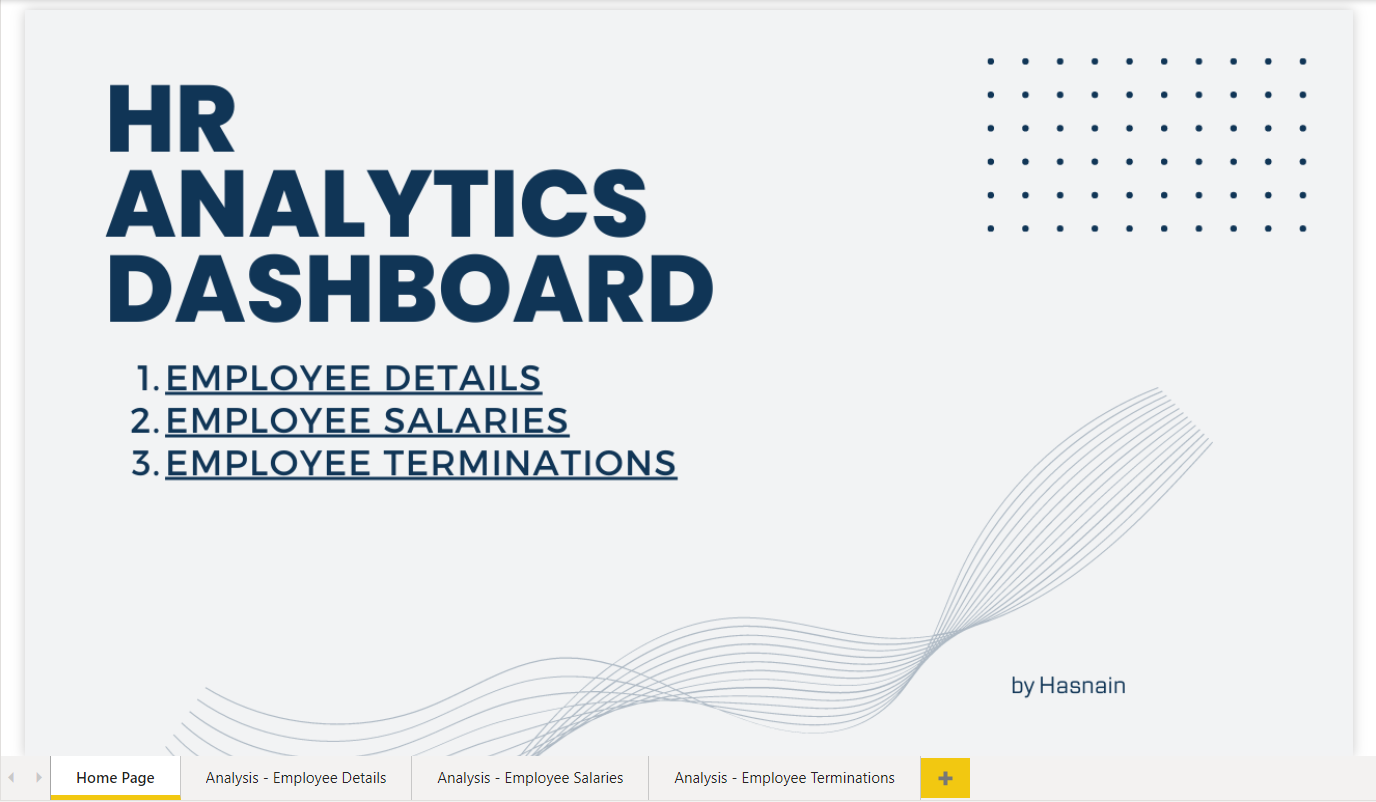

What the dashboard file says about the page in this screenshot:
{"tool":"powerbi","page":{"name":"Home Page","canvas":[1280,720],"ordinal":0},"visuals":[{"type":"actionButton","box":[104.7,332,407,40.5],"z":0},{"type":"actionButton","box":[104.7,372.5,438,40.5],"z":1},{"type":"actionButton","box":[104.7,422.5,535.5,40.5],"z":2}]}

Visuals, with their boxes on the page's 1280x720 design canvas (x1, y1, x2, y2). These are canvas units, not pixel positions in the 1376x802 screenshot, which may show the page scaled, cropped or inside an application window:
actionButton: [left=105, top=332, right=512, bottom=372]
actionButton: [left=105, top=372, right=543, bottom=413]
actionButton: [left=105, top=422, right=640, bottom=463]
